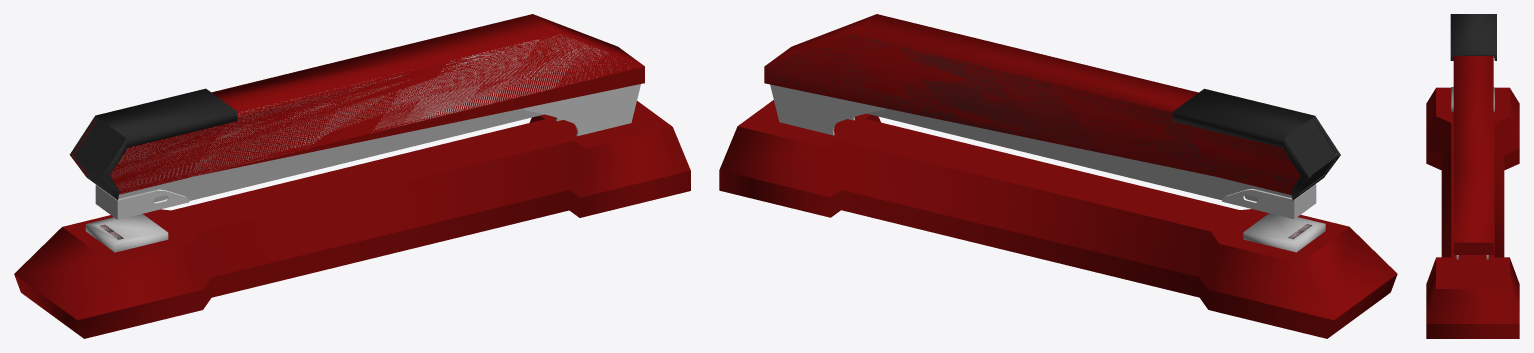
File: stapler1.dae
3 views of the same model, side by side, from view 1: azimuth 30°, elevation 25°; view 2: azimuth 150°, elevation 25°; view 3: azimuth 270°, elevation 25° (orthographic). The views are drawn at different scales.
Visible parts, largest first — view 1: group_1 (×2), group_0 (×3), group_2 (×2), group_4; view 2: group_1 (×2), group_0 (×3), group_2 (×2), group_4; view 3: group_1 (×2), group_0 (×2).
Part boxes in pixels (x1,y1,x2,y2): group_1 (×2): [14, 101, 690, 338]; group_0 (×3): [69, 14, 644, 200]; group_2 (×2): [95, 108, 544, 219]; group_4: [523, 84, 640, 136]; group_1 (×2): [719, 100, 1397, 338]; group_0 (×3): [764, 14, 1340, 200]; group_2 (×2): [867, 108, 1316, 219]; group_4: [770, 84, 886, 135]; group_1 (×2): [1426, 87, 1519, 338]; group_0 (×2): [1450, 14, 1496, 254].
Size of the model in its own units: 6.11 by 1.09 by 1.66.
